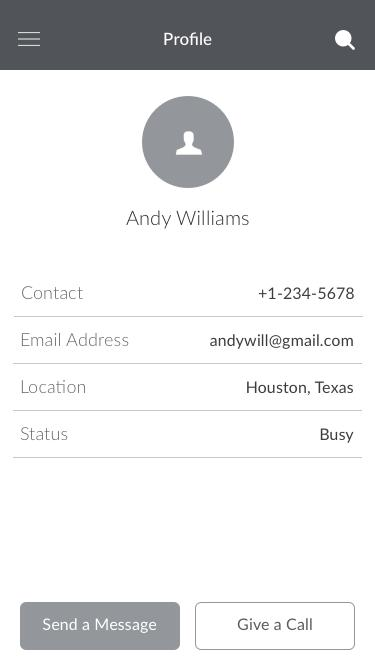Icon: (142, 96, 235, 189), (334, 29, 357, 53), (17, 31, 42, 48)
Text: (125, 210, 250, 231), (210, 334, 354, 351), (22, 332, 130, 348), (246, 380, 354, 396), (259, 287, 355, 301), (22, 379, 87, 394), (21, 286, 85, 301), (163, 32, 212, 47), (21, 426, 69, 441), (320, 427, 354, 444)
TextButton: (20, 601, 181, 650), (195, 602, 356, 651)
